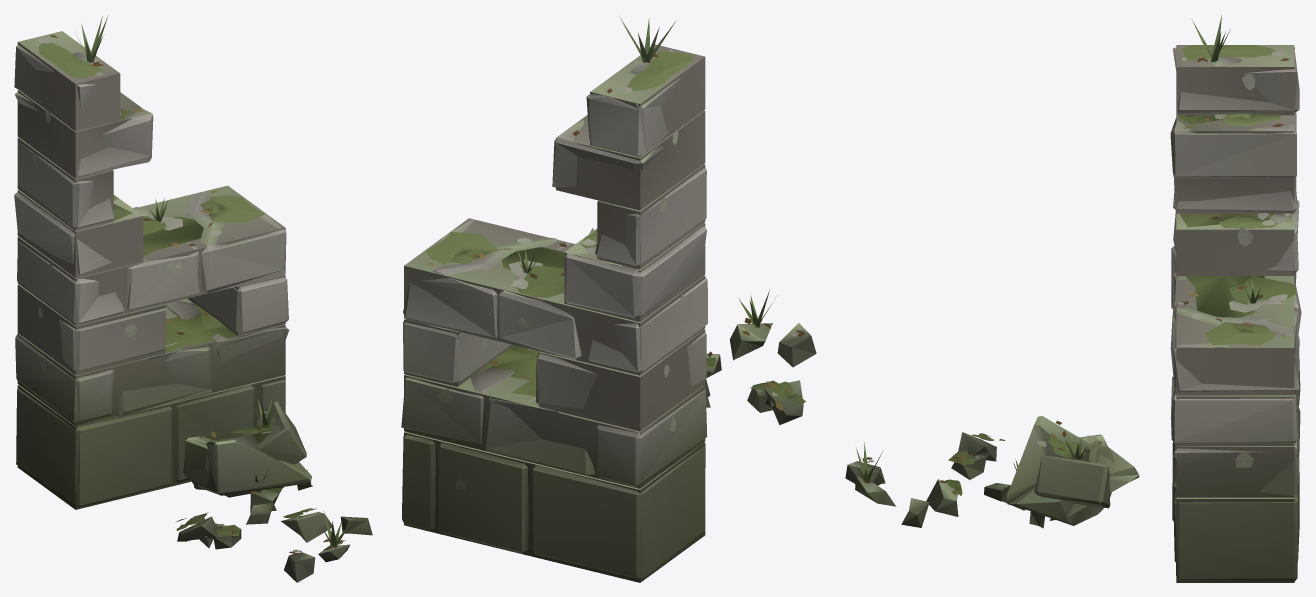
The model's file is wall_half.glb.
3 views of the same model, side by side, from view 1: azimuth 30°, elevation 25°; view 2: azimuth 150°, elevation 25°; view 3: azimuth 270°, elevation 25° (orthographic). The views are drawn at different scales.
Visible parts, largest first — view 1: wall_half; view 2: wall_half; view 3: wall_half.
Part boxes in pixels (box(x1,y1,x2,y2)): wall_half: box(14, 15, 372, 582); wall_half: box(401, 16, 816, 582); wall_half: box(845, 15, 1301, 582).
Size of what is drawn, in the model's own units: 2.01 by 4.14 by 3.6.
